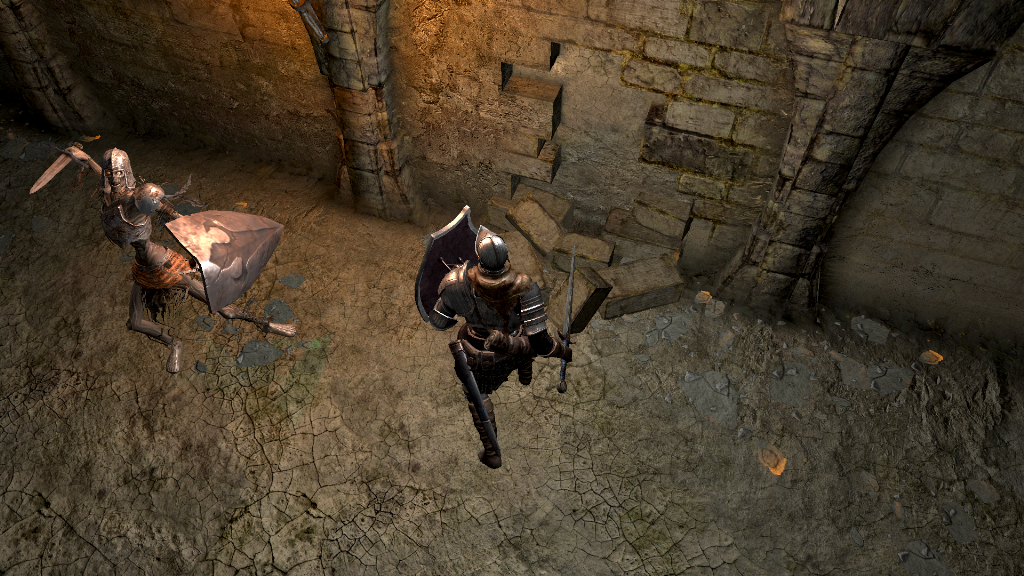player: (412, 205, 579, 469)
undeadSoldier: (59, 141, 298, 374)
